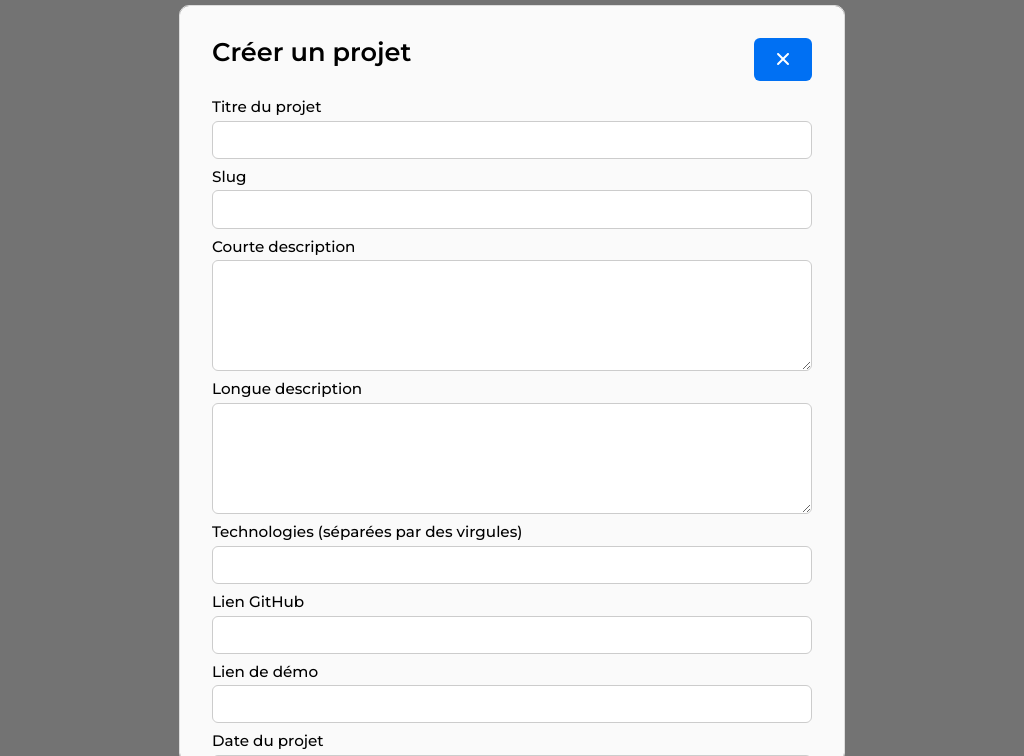
AdminModalUploader › updates title and auto-generates slug
The image size is (1024, 756).
Type "Mon Projet Test" into the field labelled "Titre du projet" at {"x": 512, "y": 140}, box left=212, top=121, right=812, bottom=159
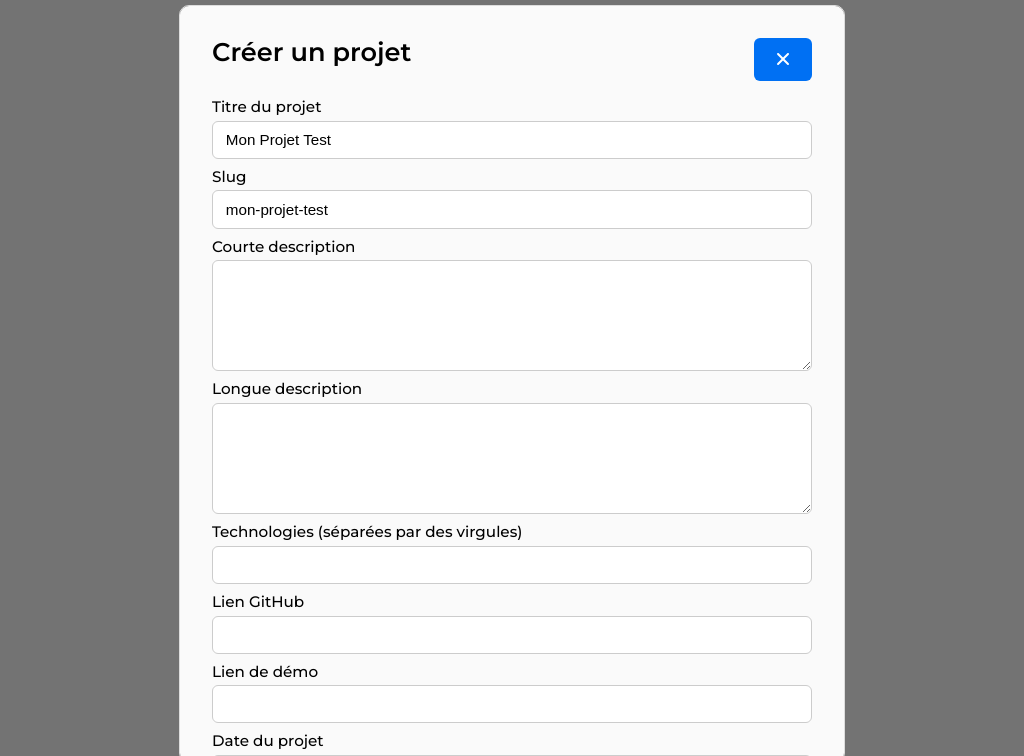
Expected: the field labelled "Slug" holds "mon-projet-test", left=212, top=190, right=812, bottom=229
